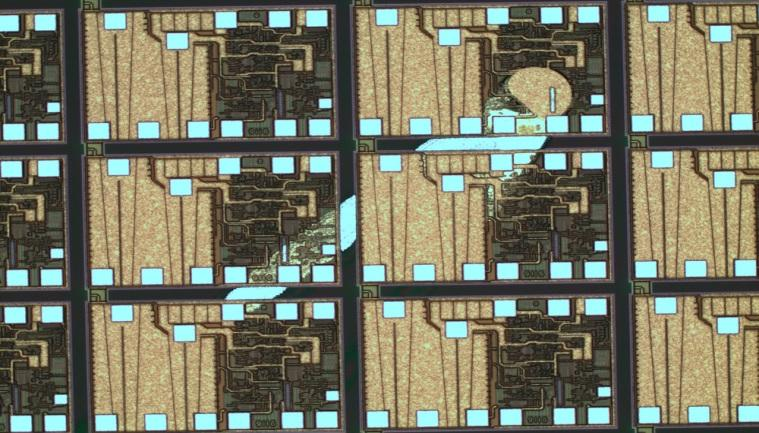BLOCK ETCH: (182, 57, 579, 339)
